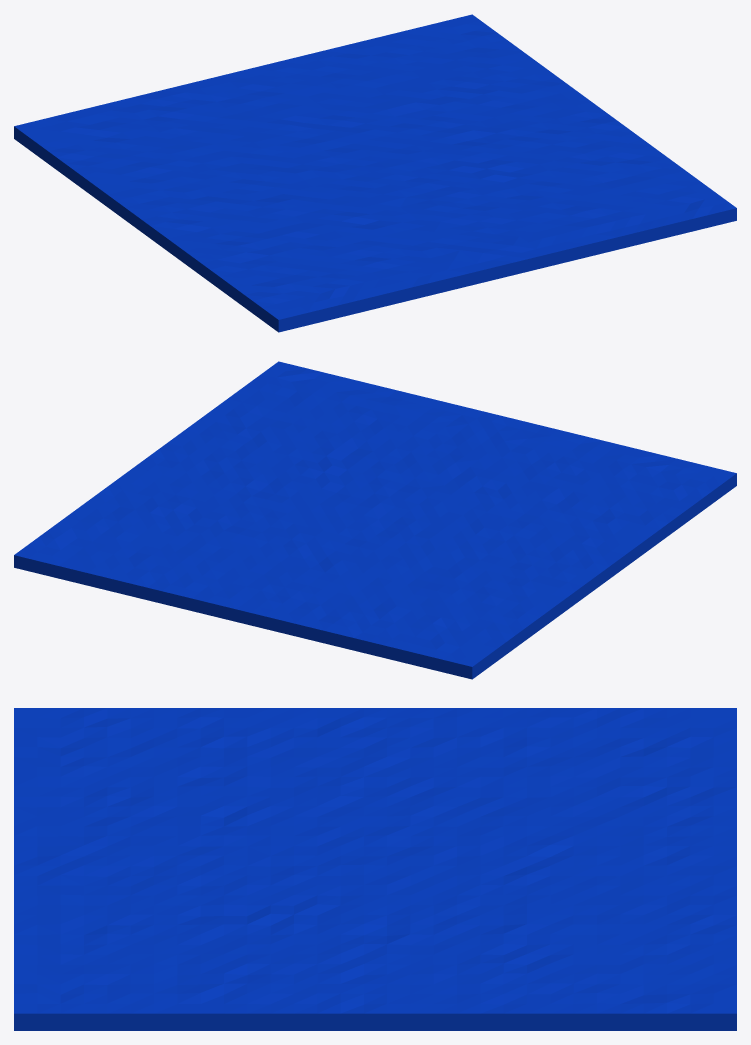
The model's file is Water.obj.
3 views of the same model, one above another, from view 1: azimuth 30°, elevation 25°; view 2: azimuth 150°, elevation 25°; view 3: azimuth 270°, elevation 25° (orthographic). The views are drawn at different scales.
Visible parts, largest first — view 1: Water-01; view 2: Water-01; view 3: Water-01.
Boxes of the visible parts, x1,y1,x2,y2 form: Water-01: (14, 14, 736, 332); Water-01: (14, 361, 736, 679); Water-01: (14, 708, 736, 1030).
Bounding box in the file's own units: 16 × 0.4532 × 16.
